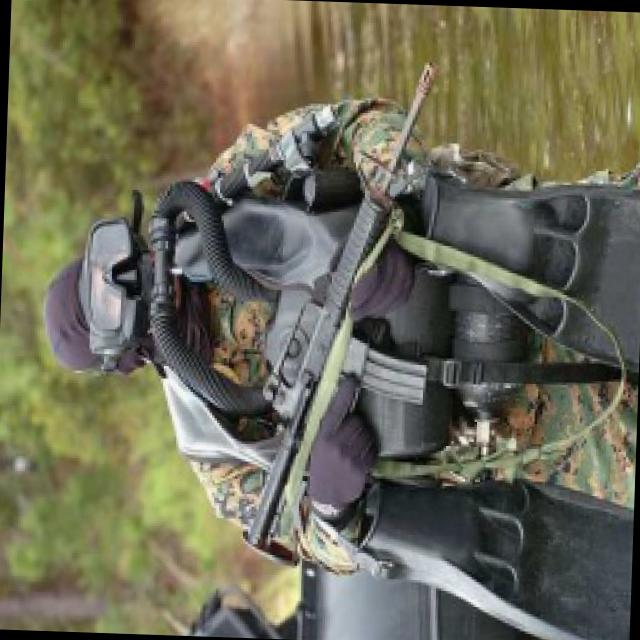long weapon: (237, 29, 494, 584)
